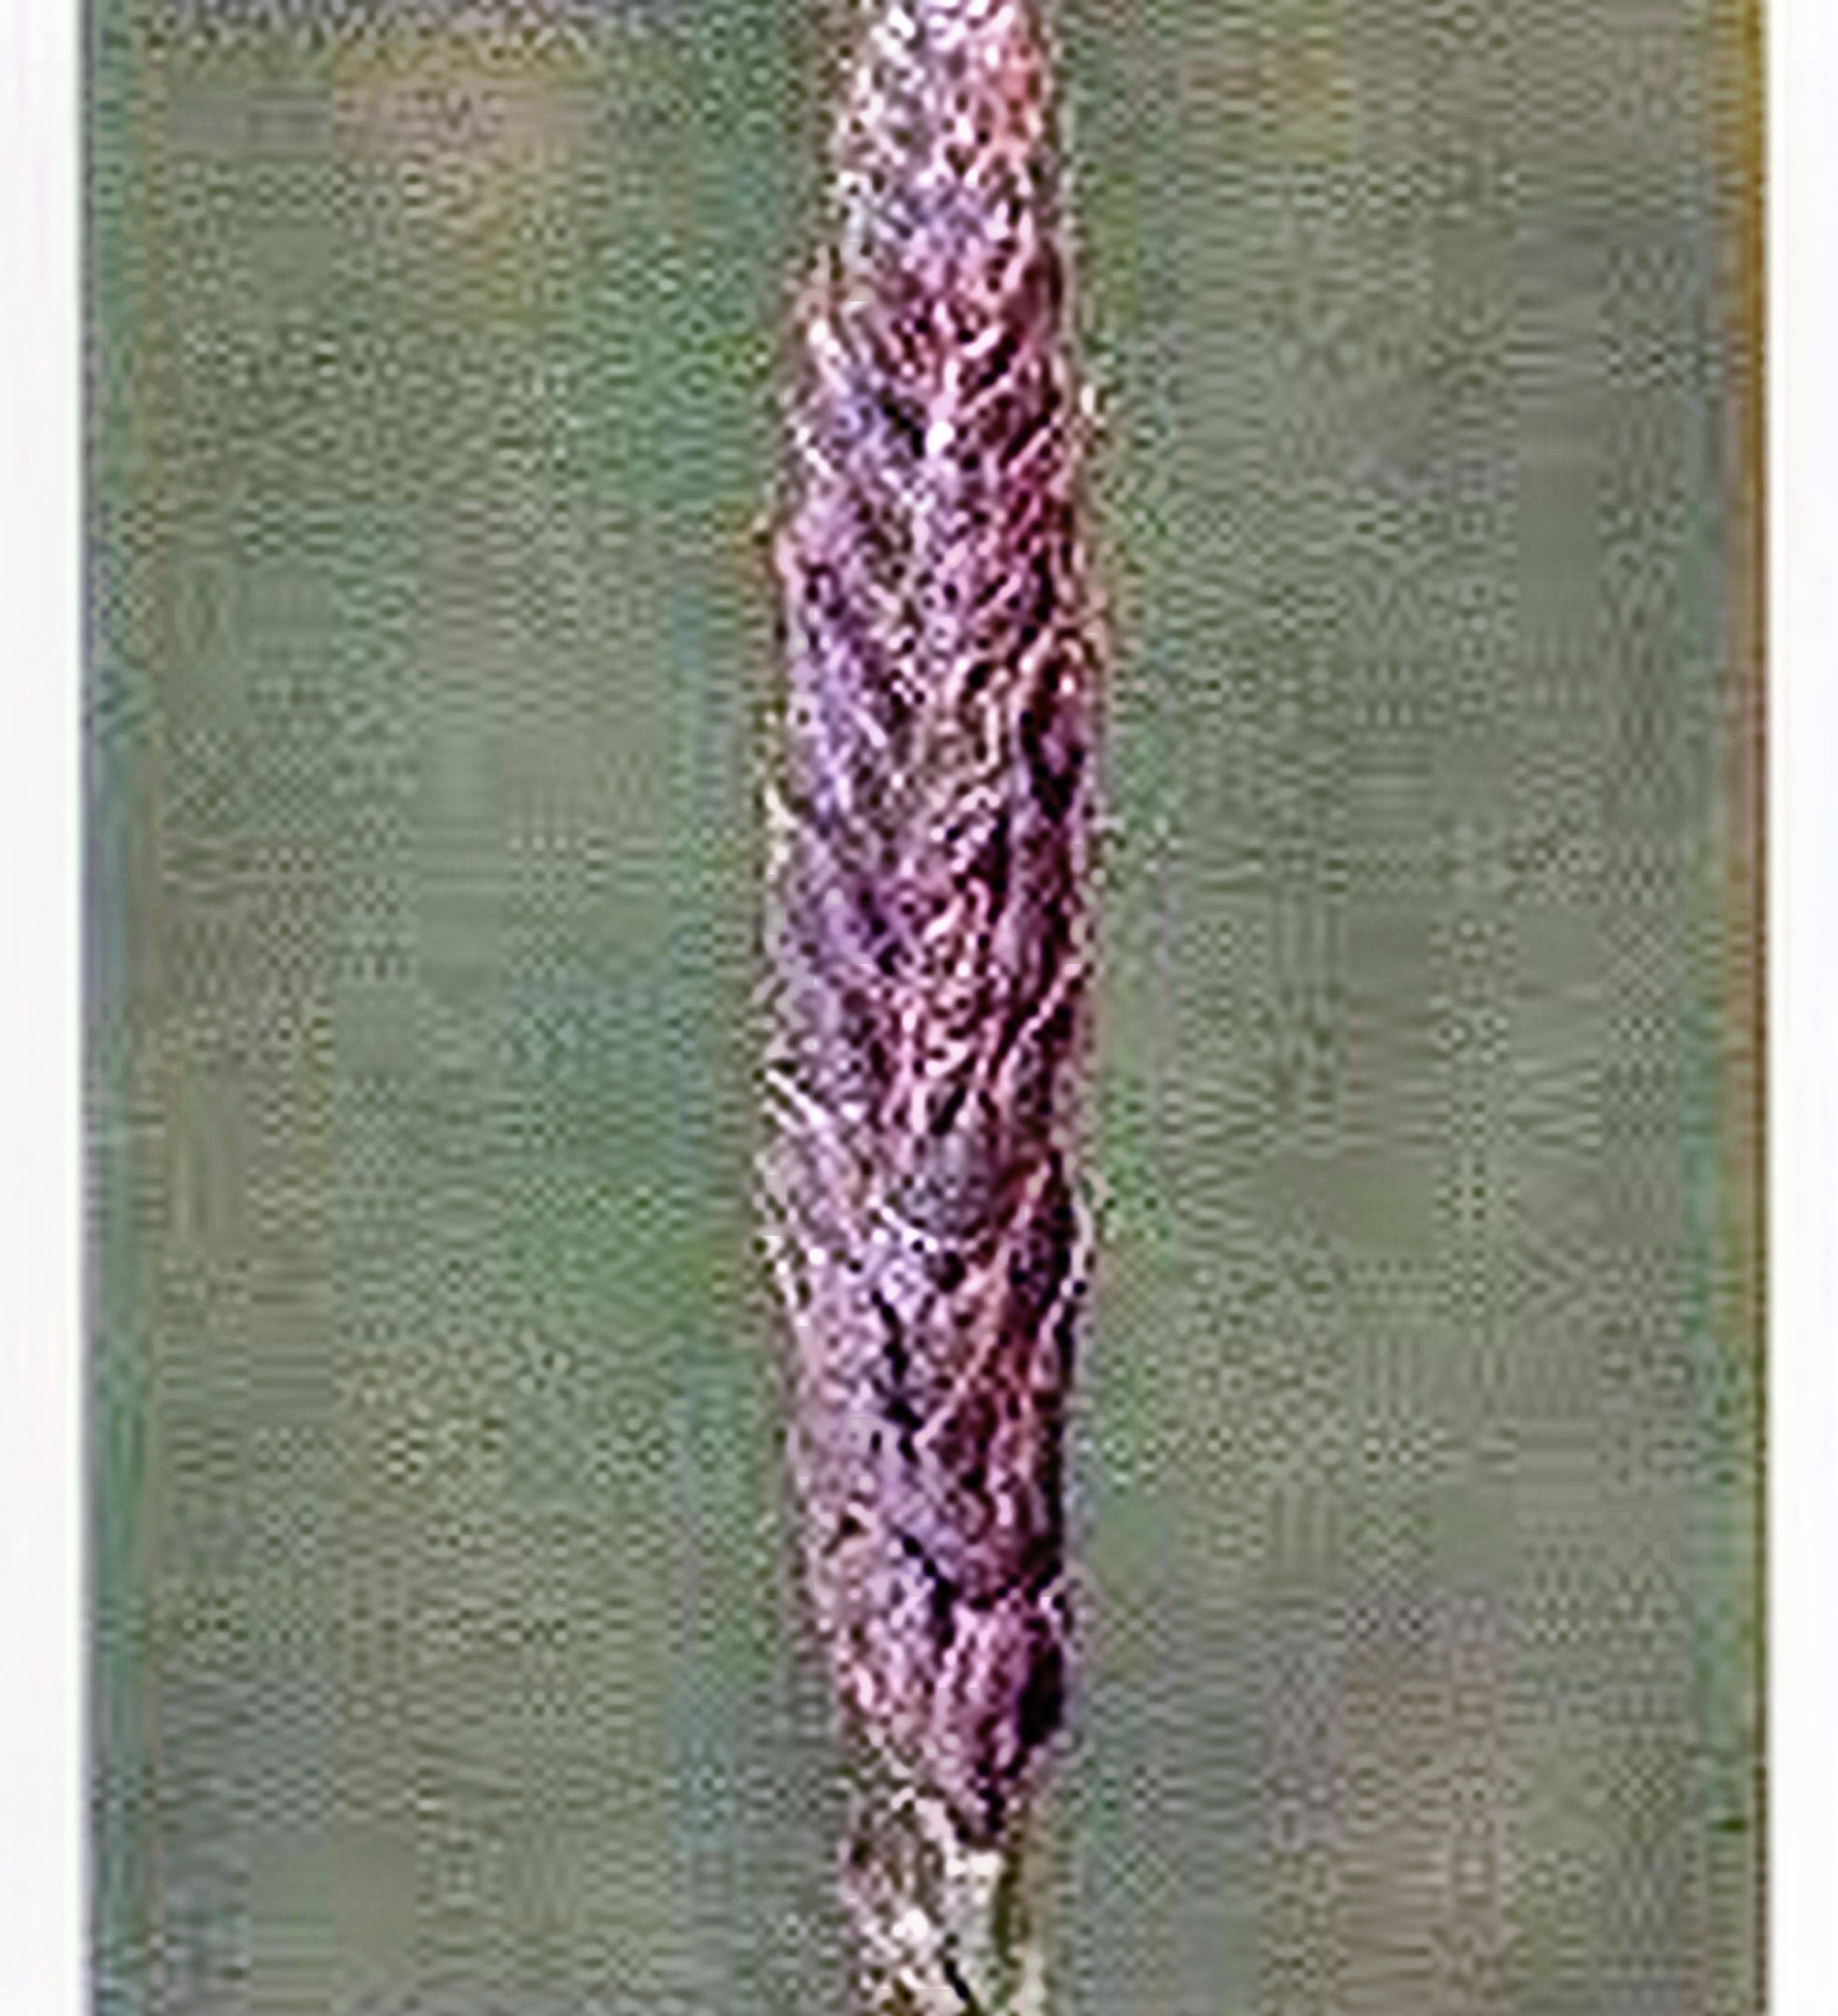Wheat Loose Smut: (724, 63, 1126, 1789)
